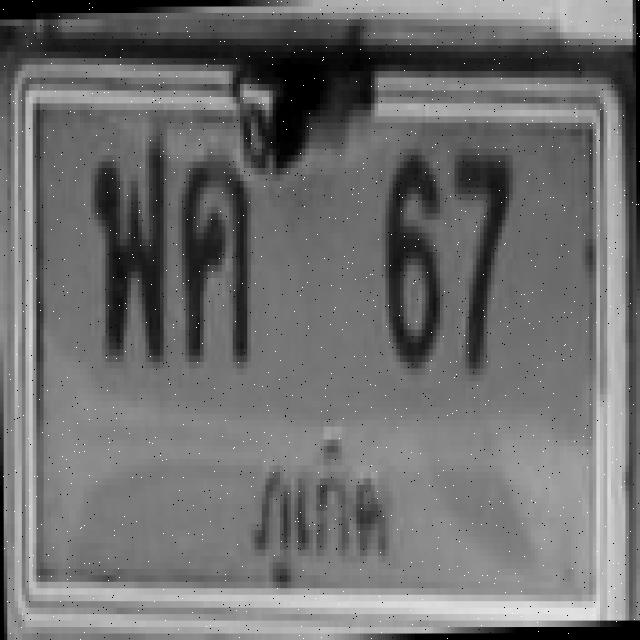13KhorKhwai: (173, 115, 259, 422)
40ForFun: (66, 99, 176, 393)
6: (370, 120, 456, 402)
7: (444, 112, 524, 414)
Phuket: (224, 428, 436, 600)
